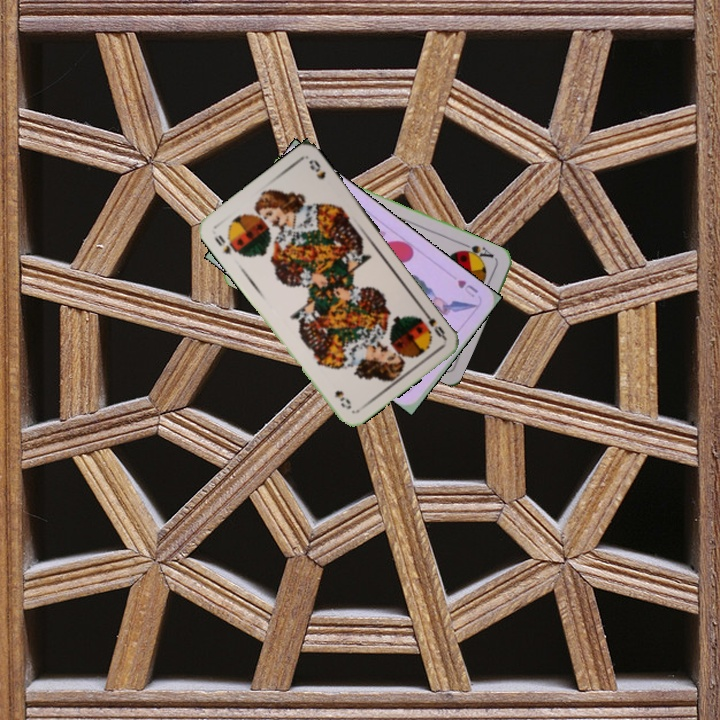HU: (453, 275, 481, 300)
SA: (457, 239, 496, 264)
SO: (418, 306, 448, 341), (210, 231, 239, 258)
